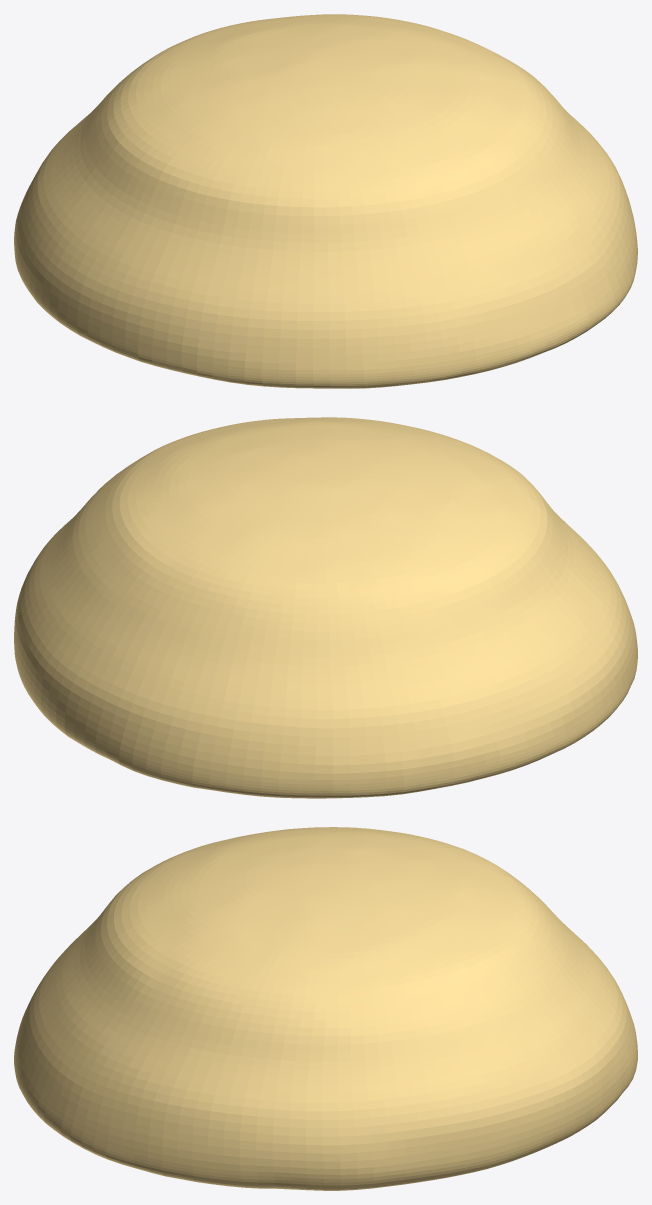
File: topgold.gltf
The picture shows the model from 3 angles, top to bottom: view 1: azimuth 30°, elevation 25°; view 2: azimuth 150°, elevation 25°; view 3: azimuth 270°, elevation 25°; orthographic projection. The views are drawn at different scales.
Parts seen in each view (by area): view 1: Retopo_middle-top.002; view 2: Retopo_middle-top.002; view 3: Retopo_middle-top.002.
Boxes of the visible parts, <box> form: Retopo_middle-top.002: <box>14,14,637,388</box>; Retopo_middle-top.002: <box>14,417,637,798</box>; Retopo_middle-top.002: <box>14,827,637,1190</box>.
Bounding box in the file's own units: 4.8 × 1.65 × 4.88.
1 material, 1 textured.
